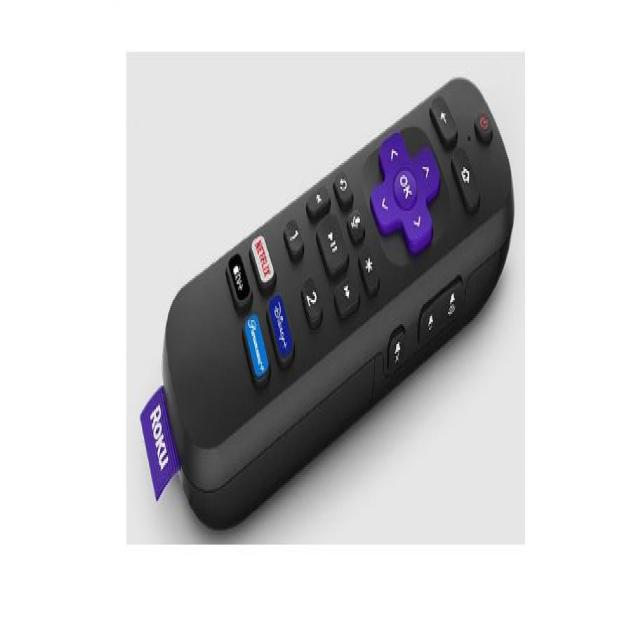remote: (162, 71, 515, 521)
